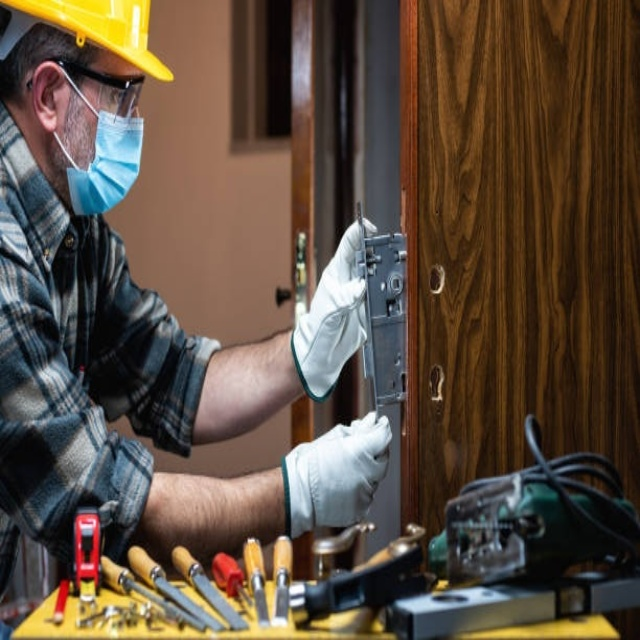Gafas: (41, 58, 147, 116)
Guantes: (289, 216, 375, 402), (280, 407, 393, 541)
Mascara: (54, 64, 146, 219)
